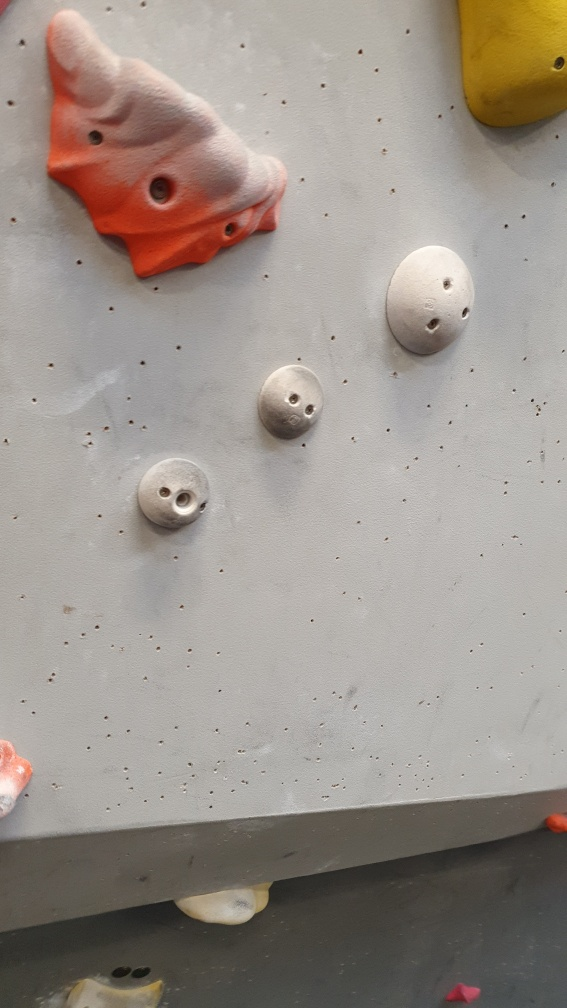Hand Start: (128, 962, 154, 985), (112, 961, 133, 982)
Jug: (43, 5, 291, 282)
Sloper: (383, 241, 477, 360), (136, 456, 214, 534), (256, 362, 328, 443)
